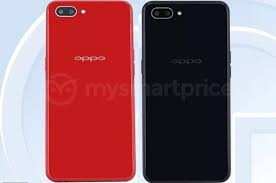oppo: (42, 1, 136, 183), (140, 1, 234, 183)
